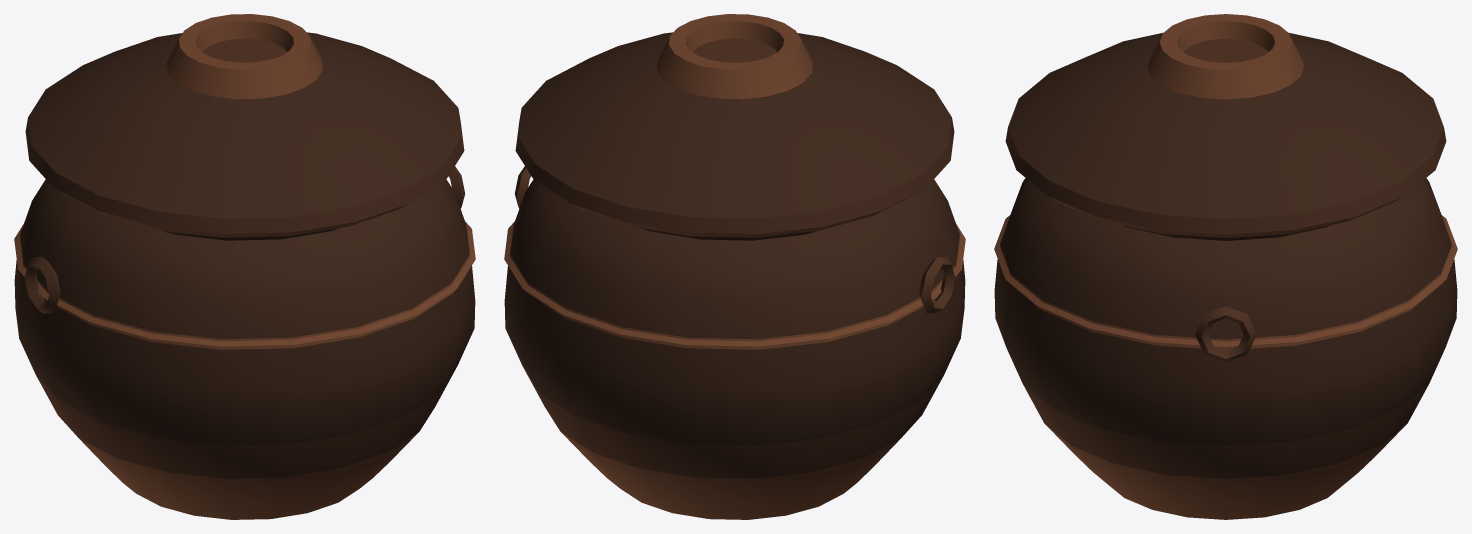
File: SC_Home_Onggi_Jar_S.gltf
The picture shows the model from 3 angles, left to right: view 1: azimuth 30°, elevation 25°; view 2: azimuth 150°, elevation 25°; view 3: azimuth 270°, elevation 25°; orthographic projection.
Visible parts, largest first — view 1: SC_Home_Onggi_Jar_S; view 2: SC_Home_Onggi_Jar_S; view 3: SC_Home_Onggi_Jar_S.
Part boxes in pixels (x1=…): SC_Home_Onggi_Jar_S: x1=14, y1=14, x2=475, y2=519; SC_Home_Onggi_Jar_S: x1=504, y1=14, x2=965, y2=519; SC_Home_Onggi_Jar_S: x1=994, y1=14, x2=1457, y2=519.
Size of the model in its own units: 0.3942 by 0.385 by 0.3808.
1 material, 1 textured.
